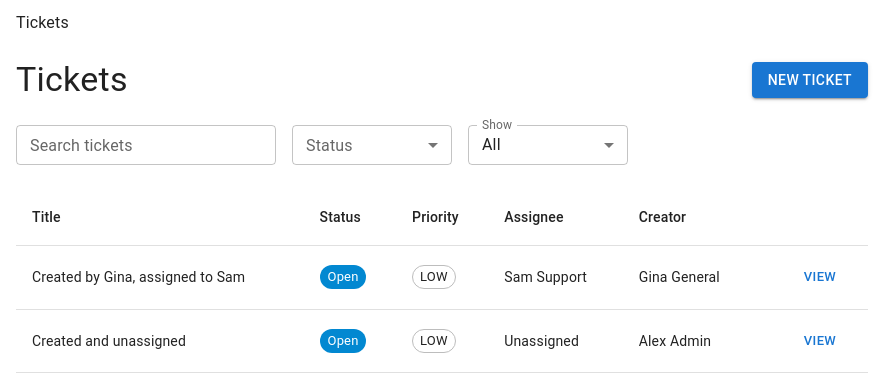
Test case: Ownership scope and view authorization (FR-023a–FR-026) › offers 'assigned to me' for a SUPPORT user and scopes correctly
This screenshot has width=886, height=390.
Expected: the text "Created by Gina, assigned to Sam" is shown, [16,246,304,309]
Click the dropdown named "show": (491, 145) [482,136,501,154]
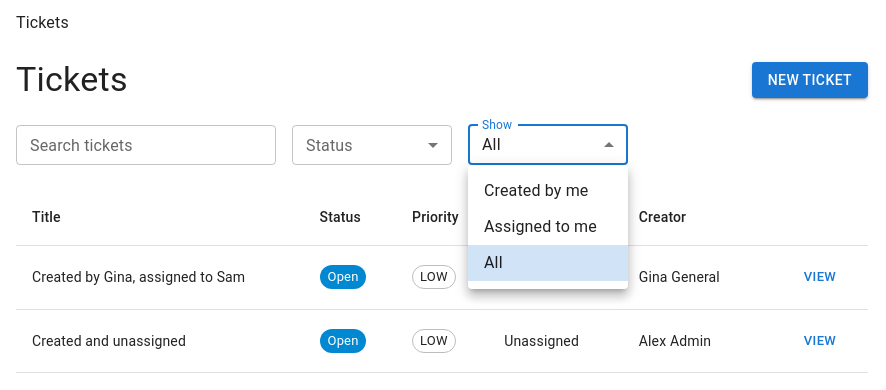
Click the option "Assigned to me": (540, 226) [484,217,597,236]
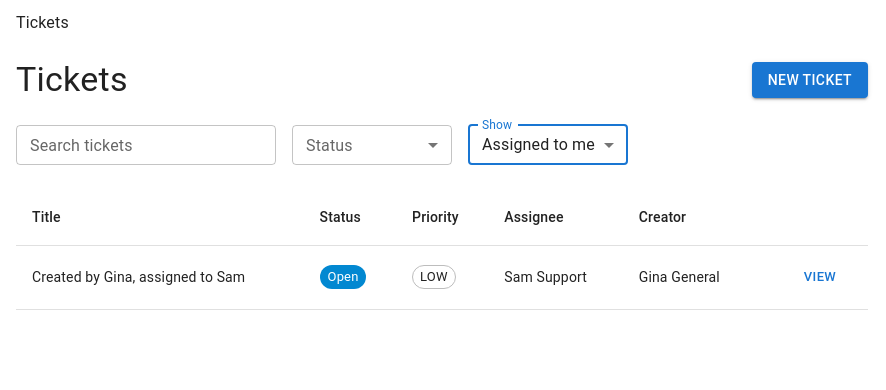
Expected: the text "Created by Gina, assigned to Sam" is shown, [16,246,304,309]
Result: the text "Created and unassigned" is gone
